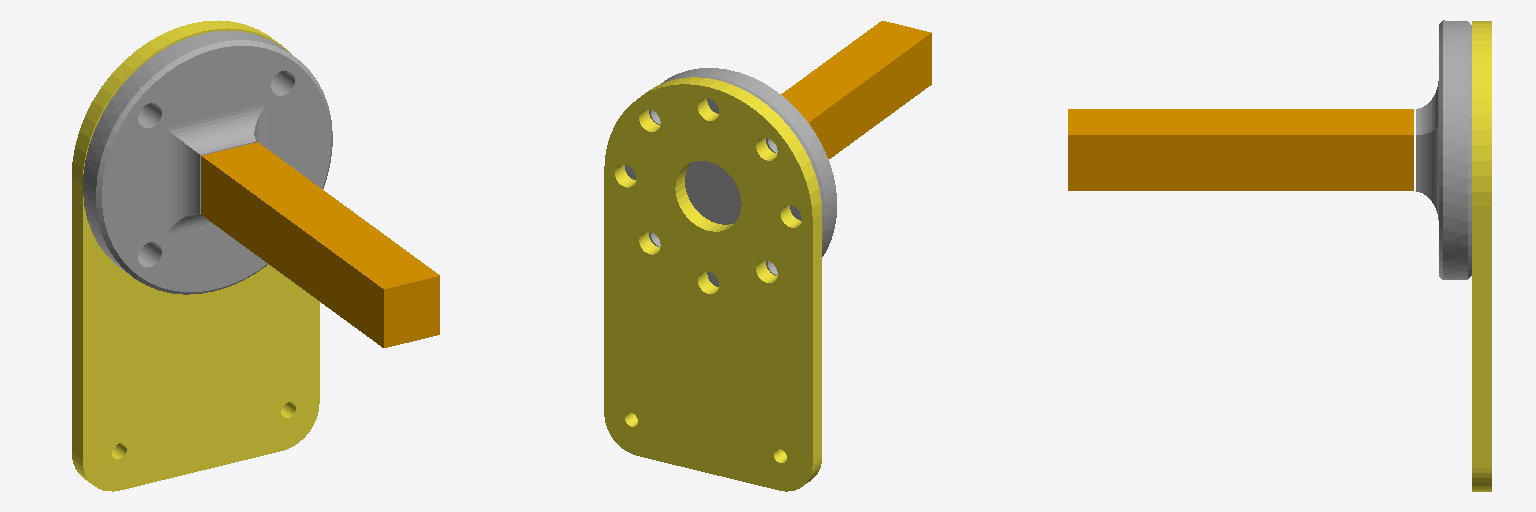
URDF robot description (ur5e_rs_finger):
<?xml version="1.0" ?>
<!-- =================================================================================== -->
<!-- |    This document was autogenerated by xacro from ur5e_rs_fingerlong.xacro       | -->
<!-- |    EDITING THIS FILE BY HAND IS NOT RECOMMENDED                                 | -->
<!-- =================================================================================== -->
<robot name="ur5e_rs_finger">
  <gazebo>
    <plugin filename="libgazebo_ros_control.so" name="ros_control">
      <!--robotNamespace>/</robotNamespace-->
      <!--robotSimType>gazebo_ros_control/DefaultRobotHWSim</robotSimType-->
    </plugin>
    <!--
    <plugin name="gazebo_ros_power_monitor_controller" filename="libgazebo_ros_power_monitor.so">
      <alwaysOn>true</alwaysOn>
      <updateRate>1.0</updateRate>
      <timeout>5</timeout>
      <powerStateTopic>power_state</powerStateTopic>
      <powerStateRate>10.0</powerStateRate>
      <fullChargeCapacity>87.78</fullChargeCapacity>     
      <dischargeRate>-474</dischargeRate>
      <chargeRate>525</chargeRate>
      <dischargeVoltage>15.52</dischargeVoltage>
      <chargeVoltage>16.41</chargeVoltage>
    </plugin>
-->
  </gazebo>
  <!-- Create the link of the hemisphere -->
  <!--property name="shoulder_height" value="0.089159" /-->
  <!--property name="shoulder_offset" value="0.13585" /-->
  <!-- shoulder_offset - elbow_offset + wrist_1_length = 0.10915 -->
  <!--property name="upper_arm_length" value="0.42500" /-->
  <!--property name="elbow_offset" value="0.1197" /-->
  <!-- CAD measured -->
  <!--property name="forearm_length" value="0.39225" /-->
  <!--property name="wrist_1_length" value="0.093" /-->
  <!-- CAD measured -->
  <!--property name="wrist_2_length" value="0.09465" /-->
  <!-- In CAD this distance is 0.930, but in the spec it is 0.09465 -->
  <!--property name="wrist_3_length" value="0.0823" /-->
  <!-- manually measured -->
  <link name="ur5_base_link">
    <visual>
      <geometry>
        <mesh filename="./ur5e/meshes/visual/base.dae"/>
      </geometry>
      <material name="LightGrey">
        <color rgba="0.7 0.7 0.7 1.0"/>
      </material>
    </visual>
    <collision>
      <geometry>
        <mesh filename="./ur5e/meshes/collision/base.stl"/>
      </geometry>
    </collision>
    <inertial>
      <mass value="4.0"/>
      <origin rpy="0 0 0" xyz="0.0 0.0 0.0"/>
      <inertia ixx="0.00443333156" ixy="0.0" ixz="0.0" iyy="0.00443333156" iyz="0.0" izz="0.0072"/>
    </inertial>
  </link>
  <joint name="ur5_shoulder_pan_joint" type="revolute">
    <parent link="ur5_base_link"/>
    <child link="ur5_shoulder_link"/>
    <origin rpy="0.0 0.0 3.141592653589793" xyz="0.0 0.0 0.163"/>
    <axis xyz="0 0 1"/>
    <limit effort="150.0" lower="-6.283185307179586" upper="6.283185307179586" velocity="3.14"/>
    <dynamics damping="0.0" friction="0.0"/>
  </joint>
  <link name="ur5_shoulder_link">
    <visual>
      <geometry>
        <mesh filename="./ur5e/meshes/visual/shoulder.dae"/>
      </geometry>
      <material name="LightGrey">
        <color rgba="0.7 0.7 0.7 1.0"/>
      </material>
    </visual>
    <collision>
      <geometry>
        <mesh filename="./ur5e/meshes/collision/shoulder.stl"/>
      </geometry>
    </collision>
    <inertial>
      <mass value="3.7"/>
      <origin rpy="0 0 0" xyz="0.0 0.0 0.0"/>
      <inertia ixx="0.010267495893" ixy="0.0" ixz="0.0" iyy="0.010267495893" iyz="0.0" izz="0.00666"/>
    </inertial>
  </link>
  <joint name="ur5_shoulder_lift_joint" type="revolute">
    <parent link="ur5_shoulder_link"/>
    <child link="ur5_upper_arm_link"/>
    <origin rpy="0.0 1.5707963267948966 0.0" xyz="0.0 0.138 0.0"/>
    <axis xyz="0 1 0"/>
    <limit effort="150.0" lower="-6.283185307179586" upper="6.283185307179586" velocity="3.14"/>
    <dynamics damping="0.0" friction="0.0"/>
  </joint>
  <link name="ur5_upper_arm_link">
    <visual>
      <geometry>
        <mesh filename="./ur5e/meshes/visual/upperarm.dae"/>
      </geometry>
      <material name="LightGrey">
        <color rgba="0.7 0.7 0.7 1.0"/>
      </material>
    </visual>
    <collision>
      <geometry>
        <mesh filename="./ur5e/meshes/collision/upperarm.stl"/>
      </geometry>
    </collision>
    <inertial>
      <mass value="8.393"/>
      <origin rpy="0 0 0" xyz="0.0 0.0 0.2125"/>
      <inertia ixx="0.1338857818623325" ixy="0.0" ixz="0.0" iyy="0.1338857818623325" iyz="0.0" izz="0.0151074"/>
    </inertial>
  </link>
  <joint name="ur5_elbow_joint" type="revolute">
    <parent link="ur5_upper_arm_link"/>
    <child link="ur5_forearm_link"/>
    <origin rpy="0.0 0.0 0.0" xyz="0.0 -0.131 0.425"/>
    <axis xyz="0 1 0"/>
    <limit effort="150.0" lower="-3.141592653589793" upper="3.141592653589793" velocity="3.14"/>
    <dynamics damping="0.0" friction="0.0"/>
  </joint>
  <link name="ur5_forearm_link">
    <visual>
      <geometry>
        <mesh filename="./ur5e/meshes/visual/forearm.dae"/>
      </geometry>
      <material name="LightGrey">
        <color rgba="0.7 0.7 0.7 1.0"/>
      </material>
    </visual>
    <collision>
      <geometry>
        <mesh filename="./ur5e/meshes/collision/forearm.stl"/>
      </geometry>
    </collision>
    <inertial>
      <mass value="2.275"/>
      <origin rpy="0 0 0" xyz="0.0 0.0 0.196"/>
      <inertia ixx="0.031179620861480004" ixy="0.0" ixz="0.0" iyy="0.031179620861480004" iyz="0.0" izz="0.004095"/>
    </inertial>
  </link>
  <joint name="ur5_wrist_1_joint" type="revolute">
    <parent link="ur5_forearm_link"/>
    <child link="ur5_wrist_1_link"/>
    <origin rpy="0.0 1.5707963267948966 0.0" xyz="0.0 0.0 0.392"/>
    <axis xyz="0 1 0"/>
    <limit effort="28.0" lower="-6.283185307179586" upper="6.283185307179586" velocity="6.28"/>
    <dynamics damping="0.0" friction="0.0"/>
  </joint>
  <link name="ur5_wrist_1_link">
    <visual>
      <geometry>
        <mesh filename="./ur5e/meshes/visual/wrist1.dae"/>
      </geometry>
      <material name="LightGrey">
        <color rgba="0.7 0.7 0.7 1.0"/>
      </material>
    </visual>
    <collision>
      <geometry>
        <mesh filename="./ur5e/meshes/collision/wrist1.stl"/>
      </geometry>
    </collision>
    <inertial>
      <mass value="1.219"/>
      <origin rpy="0 0 0" xyz="0.0 0.127 0.0"/>
      <inertia ixx="0.0025598989760400002" ixy="0.0" ixz="0.0" iyy="0.0025598989760400002" iyz="0.0" izz="0.0021942"/>
    </inertial>
  </link>
  <joint name="ur5_wrist_2_joint" type="revolute">
    <parent link="ur5_wrist_1_link"/>
    <child link="ur5_wrist_2_link"/>
    <origin rpy="0.0 0.0 0.0" xyz="0.0 0.127 0.0"/>
    <axis xyz="0 0 1"/>
    <limit effort="28.0" lower="-6.283185307179586" upper="6.283185307179586" velocity="6.28"/>
    <dynamics damping="0.0" friction="0.0"/>
  </joint>
  <link name="ur5_wrist_2_link">
    <visual>
      <geometry>
        <mesh filename="./ur5e/meshes/visual/wrist2.dae"/>
      </geometry>
      <material name="LightGrey">
        <color rgba="0.7 0.7 0.7 1.0"/>
      </material>
    </visual>
    <collision>
      <geometry>
        <mesh filename="./ur5e/meshes/collision/wrist2.stl"/>
      </geometry>
    </collision>
    <inertial>
      <mass value="1.219"/>
      <origin rpy="0 0 0" xyz="0.0 0.0 0.1"/>
      <inertia ixx="0.0025598989760400002" ixy="0.0" ixz="0.0" iyy="0.0025598989760400002" iyz="0.0" izz="0.0021942"/>
    </inertial>
  </link>
  <joint name="ur5_wrist_3_joint" type="revolute">
    <parent link="ur5_wrist_2_link"/>
    <child link="ur5_wrist_3_link"/>
    <origin rpy="0.0 0.0 0.0" xyz="0.0 0.0 0.1"/>
    <axis xyz="0 1 0"/>
    <limit effort="28.0" lower="-6.283185307179586" upper="6.283185307179586" velocity="6.28"/>
    <dynamics damping="0.0" friction="0.0"/>
  </joint>
  <link name="ur5_wrist_3_link">
    <visual>
      <geometry>
        <mesh filename="./ur5e/meshes/visual/wrist3.dae"/>
      </geometry>
      <material name="LightGrey">
        <color rgba="0.7 0.7 0.7 1.0"/>
      </material>
    </visual>
    <collision>
      <geometry>
        <mesh filename="./ur5e/meshes/collision/wrist3.stl"/>
      </geometry>
    </collision>
    <inertial>
      <mass value="0.1879"/>
      <origin rpy="1.5707963267948966 0 0" xyz="0.0 0.0771 0.0"/>
      <inertia ixx="9.890410052167731e-05" ixy="0.0" ixz="0.0" iyy="9.890410052167731e-05" iyz="0.0" izz="0.0001321171875"/>
    </inertial>
  </link>
  <joint name="ur5_ee_fixed_joint" type="fixed">
    <parent link="ur5_wrist_3_link"/>
    <child link="ur5_ee_link"/>
    <origin rpy="0.0 0.0 1.5707963267948966" xyz="0.0 0.1 0.0"/>
  </joint>
  <link name="ur5_ee_link">
    <collision>
      <geometry>
        <box size="0.01 0.01 0.01"/>
      </geometry>
      <origin rpy="0 0 0" xyz="-0.01 0 0"/>
    </collision>
    <inertial>
      <mass value="1"/>
      <origin rpy="0 0 0" xyz="0.0 0.0 0.0"/>
      <inertia ixx="1" ixy="0.0" ixz="0.0" iyy="1" iyz="0.0" izz="1"/>
    </inertial>
  </link>
  <transmission name="ur5_shoulder_pan_trans">
    <type>transmission_interface/SimpleTransmission</type>
    <joint name="ur5_shoulder_pan_joint">
      <hardwareInterface>hardware_interface/PositionJointInterface</hardwareInterface>
    </joint>
    <actuator name="ur5_shoulder_pan_motor">
      <mechanicalReduction>1</mechanicalReduction>
    </actuator>
  </transmission>
  <transmission name="ur5_shoulder_lift_trans">
    <type>transmission_interface/SimpleTransmission</type>
    <joint name="ur5_shoulder_lift_joint">
      <hardwareInterface>hardware_interface/PositionJointInterface</hardwareInterface>
    </joint>
    <actuator name="ur5_shoulder_lift_motor">
      <mechanicalReduction>1</mechanicalReduction>
    </actuator>
  </transmission>
  <transmission name="ur5_elbow_trans">
    <type>transmission_interface/SimpleTransmission</type>
    <joint name="ur5_elbow_joint">
      <hardwareInterface>hardware_interface/PositionJointInterface</hardwareInterface>
    </joint>
    <actuator name="ur5_elbow_motor">
      <mechanicalReduction>1</mechanicalReduction>
    </actuator>
  </transmission>
  <transmission name="ur5_wrist_1_trans">
    <type>transmission_interface/SimpleTransmission</type>
    <joint name="ur5_wrist_1_joint">
      <hardwareInterface>hardware_interface/PositionJointInterface</hardwareInterface>
    </joint>
    <actuator name="ur5_wrist_1_motor">
      <mechanicalReduction>1</mechanicalReduction>
    </actuator>
  </transmission>
  <transmission name="ur5_wrist_2_trans">
    <type>transmission_interface/SimpleTransmission</type>
    <joint name="ur5_wrist_2_joint">
      <hardwareInterface>hardware_interface/PositionJointInterface</hardwareInterface>
    </joint>
    <actuator name="ur5_wrist_2_motor">
      <mechanicalReduction>1</mechanicalReduction>
    </actuator>
  </transmission>
  <transmission name="ur5_wrist_3_trans">
    <type>transmission_interface/SimpleTransmission</type>
    <joint name="ur5_wrist_3_joint">
      <hardwareInterface>hardware_interface/PositionJointInterface</hardwareInterface>
    </joint>
    <actuator name="ur5_wrist_3_motor">
      <mechanicalReduction>1</mechanicalReduction>
    </actuator>
  </transmission>
  <gazebo reference="ur5_shoulder_link">
    <selfCollide>true</selfCollide>
  </gazebo>
  <gazebo reference="ur5_upper_arm_link">
    <selfCollide>true</selfCollide>
  </gazebo>
  <gazebo reference="ur5_forearm_link">
    <selfCollide>true</selfCollide>
  </gazebo>
  <gazebo reference="ur5_wrist_1_link">
    <selfCollide>true</selfCollide>
  </gazebo>
  <gazebo reference="ur5_wrist_3_link">
    <selfCollide>true</selfCollide>
  </gazebo>
  <gazebo reference="ur5_wrist_2_link">
    <selfCollide>true</selfCollide>
  </gazebo>
  <gazebo reference="ur5_ee_link">
    <selfCollide>true</selfCollide>
  </gazebo>
  <!-- ROS base_link to UR 'Base' Coordinates transform -->
  <link name="ur5_base">
    <inertial>
      <mass value="1"/>
      <origin rpy="0 0 0" xyz="0.0 0.0 0.0"/>
      <inertia ixx="1" ixy="0.0" ixz="0.0" iyy="1" iyz="0.0" izz="1"/>
    </inertial>
  </link>
  <joint name="ur5_base_link-base_fixed_joint" type="fixed">
    <!-- NOTE: this rotation is only needed as long as base_link itself is
                 not corrected wrt the real robot (ie: rotated over 180
                 degrees)
      -->
    <origin rpy="0 0 -3.141592653589793" xyz="0 0 0"/>
    <parent link="ur5_base_link"/>
    <child link="ur5_base"/>
  </joint>
  <!-- Frame coincident with all-zeros TCP on UR controller -->
  <link name="ur5_tool0">
    <inertial>
      <mass value="1"/>
      <origin rpy="0 0 0" xyz="0.0 0.0 0.0"/>
      <inertia ixx="1" ixy="0.0" ixz="0.0" iyy="1" iyz="0.0" izz="1"/>
    </inertial>
  </link>
  <joint name="ur5_wrist_3_link-tool0_fixed_joint" type="fixed">
    <origin rpy="-1.5707963267948966 0 0" xyz="0 0.1 0"/>
    <parent link="ur5_wrist_3_link"/>
    <child link="ur5_tool0"/>
  </joint>
  <link name="world"/>
  <joint name="world_joint" type="fixed">
    <parent link="world"/>
    <child link="ur5_base_link"/>
    <origin rpy="0.0 0.0 0.0" xyz="0.0 0.0 0.0"/>
  </joint>
  <material name="aluminum">
    <color rgba="0.5 0.5 0.5 1"/>
  </material>
  <material name="plastic">
    <color rgba="0.1 0.1 0.1 1"/>
  </material>
  <!-- Create the link of the hemisphere -->
  <link name="adapter_base">
    <visual>
      <geometry>
        <mesh filename="./realsense_d415/meshes/adapter.dae"/>
      </geometry>
    </visual>
    <inertial>
      <mass value="1"/>
      <origin rpy="0 0 0" xyz="0.0 0.0 0.0"/>
      <inertia ixx="1" ixy="0.0" ixz="0.0" iyy="1" iyz="0.0" izz="1"/>
    </inertial>
  </link>
  <joint name="adapter_base_to_mount" type="fixed">
    <parent link="adapter_mount"/>
    <child link="adapter_base"/>
    <origin rpy="0 0 0" xyz="-0.031 -0.08 0.0"/>
  </joint>
  <link name="adapter_mount">
    <inertial>
      <mass value="1"/>
      <origin rpy="0 0 0" xyz="0.0 0.0 0.0"/>
      <inertia ixx="1" ixy="0.0" ixz="0.0" iyy="1" iyz="0.0" izz="1"/>
    </inertial>
  </link>
  <joint name="adapter_base_to_mount2" type="fixed">
    <parent link="adapter_mount"/>
    <child link="adapter_mount2"/>
    <origin rpy="0 0 0" xyz="0.0 0.0 0.005"/>
  </joint>
  <link name="adapter_mount2">
    <inertial>
      <mass value="1"/>
      <origin rpy="0 0 0" xyz="0.0 0.0 0.0"/>
      <inertia ixx="1" ixy="0.0" ixz="0.0" iyy="1" iyz="0.0" izz="1"/>
    </inertial>
  </link>
  <joint name="adapter_base_to_mount3" type="fixed">
    <parent link="adapter_mount2"/>
    <child link="adapter_mount3"/>
    <origin rpy="0 0 0" xyz="0.024 -0.07 0.0"/>
  </joint>
  <link name="adapter_mount3">
    <inertial>
      <mass value="1"/>
      <origin rpy="0 0 0" xyz="0.0 0.0 0.0"/>
      <inertia ixx="1" ixy="0.0" ixz="0.0" iyy="1" iyz="0.0" izz="1"/>
    </inertial>
  </link>

  <!-- Create the link of the finger -->
  <link name="finger_base">
    <visual>
      <geometry>
        <mesh filename="./finger/finger_long_base.dae"/>
      </geometry>
    </visual>
    <collision>
      <geometry>
        <mesh filename="./finger/finger_long_base.dae"/>
      </geometry>
    </collision>
    <inertial>
      <mass value="1"/>
      <origin rpy="0 0 0" xyz="0.0 0.0 0.0"/>
      <inertia ixx="1" ixy="0.0" ixz="0.0" iyy="1" iyz="0.0" izz="1"/>
    </inertial>
  </link>

  <joint name="finger_base_to_finger_body" type="fixed">
    <parent link="finger_base"/>
    <child link="finger_body"/>
    <origin rpy="0 0 0" xyz="0.0 0.0 0.0"/>
  </joint>

  <link name="finger_body">
    <visual>
      <geometry>
        <mesh filename="./finger/finger_long_body.dae"/>
      </geometry>
    </visual>
    <collision>
      <geometry>
        <mesh filename="./finger/finger_long_body.dae"/>
      </geometry>
    </collision>
    <inertial>
      <mass value="1"/>
      <origin rpy="0 0 0" xyz="0.0 0.0 0.0"/>
      <inertia ixx="1" ixy="0.0" ixz="0.0" iyy="1" iyz="0.0" izz="1"/>
    </inertial>
  </link>

  <joint name="finger_base_to_finger_tip" type="fixed">
    <parent link="finger_base"/>
    <child link="finger_tip"/>
    <origin rpy="0 0 0" xyz="0.0 0.0 0.098"/>
  </joint>

  <link name="finger_tip">
    <inertial>
      <mass value="1"/>
      <origin rpy="0 0 0" xyz="0.0 0.0 0.0"/>
      <inertia ixx="1" ixy="0.0" ixz="0.0" iyy="1" iyz="0.0" izz="1"/>
    </inertial>
  </link>

  <joint name="adapter_to_ur5" type="fixed">
    <parent link="ur5_tool0"/>
    <child link="adapter_mount"/>
    <origin rpy="0 0 0" xyz="0 0 0"/>
  </joint>
  <joint name="adapter_to_camera" type="fixed">
    <parent link="adapter_mount3"/>
    <child link="adapter_to_camera"/>
    <origin rpy="0 -1.5707963267948966 1.5707963267948966" xyz="-0.023 0.012 0.01"/>
  </joint>
  <link name="adapter_to_camera">
    <inertial>
      <mass value="1"/>
      <origin rpy="0 0 0" xyz="0.0 0.0 0.0"/>
      <inertia ixx="1" ixy="0.0" ixz="0.0" iyy="1" iyz="0.0" izz="1"/>
    </inertial>
  </link>
  <joint name="adapter_to_finger" type="fixed">
    <parent link="adapter_mount2"/>
    <child link="finger_base"/>
    <origin rpy="0 0 0 " xyz="0 0 0.0"/>
  </joint>
  <!-- camera body, with origin at bottom screw mount -->
  <joint name="camera_joint" type="fixed">
    <origin rpy="0 0 0" xyz="0 0 0"/>
    <parent link="adapter_to_camera"/>
    <child link="camera_bottom_screw_frame"/>
  </joint>
  <link name="camera_bottom_screw_frame">
    <inertial>
      <mass value="1"/>
      <origin rpy="0 0 0" xyz="0.0 0.0 0.0"/>
      <inertia ixx="1" ixy="0.0" ixz="0.0" iyy="1" iyz="0.0" izz="1"/>
    </inertial>
  </link>
  <joint name="camera_link_joint" type="fixed">
    <origin rpy="0 0 0" xyz="0 0.02 0.0115"/>
    <parent link="camera_bottom_screw_frame"/>
    <child link="camera_link"/>
  </joint>
  <link name="camera_link">
    <visual>
      <origin rpy="1.5707963267948966 0 1.5707963267948966" xyz="0.00987 -0.02 0"/>
      <geometry>
        <!-- <box size="${d415_cam_width} ${d415_cam_height} ${d415_cam_depth}"/> -->
        <mesh filename="./realsense_d415/meshes/d415.stl"/>
      </geometry>
      <material name="aluminum"/>
    </visual>
    <collision>
      <origin rpy="0 0 0" xyz="0 -0.02 0"/>
      <geometry>
        <box size="0.02005 0.099 0.023"/>
      </geometry>
    </collision>
    <inertial>
      <!-- The following are not reliable values, and should not be used for modeling -->
      <mass value="0.564"/>
      <origin xyz="0 0 0"/>
      <inertia ixx="0.003881243" ixy="0.0" ixz="0.0" iyy="0.000498940" iyz="0.0" izz="0.003879257"/>
    </inertial>
  </link>
  <!-- camera depth joints and links -->
  <joint name="camera_depth_joint" type="fixed">
    <origin rpy="0 0 0" xyz="0 0 0"/>
    <parent link="camera_link"/>
    <child link="camera_depth_frame"/>
  </joint>
  <link name="camera_depth_frame">
    <inertial>
      <mass value="1"/>
      <origin rpy="0 0 0" xyz="0.0 0.0 0.0"/>
      <inertia ixx="1" ixy="0.0" ixz="0.0" iyy="1" iyz="0.0" izz="1"/>
    </inertial>
  </link>
  <joint name="camera_depth_optical_joint" type="fixed">
    <origin rpy="-1.5707963267948966 0 -1.5707963267948966" xyz="0 0 0"/>
    <parent link="camera_depth_frame"/>
    <child link="camera_depth_optical_frame"/>
  </joint>
  <link name="camera_depth_optical_frame">
    <inertial>
      <mass value="1"/>
      <origin rpy="0 0 0" xyz="0.0 0.0 0.0"/>
      <inertia ixx="1" ixy="0.0" ixz="0.0" iyy="1" iyz="0.0" izz="1"/>
    </inertial>
  </link>
  <!-- camera left IR joints and links -->
  <joint name="camera_infra1_joint" type="fixed">
    <origin rpy="0 0 0" xyz="0 0.0 0"/>
    <parent link="camera_link"/>
    <child link="camera_infra1_frame"/>
  </joint>
  <link name="camera_infra1_frame">
    <inertial>
      <mass value="1"/>
      <origin rpy="0 0 0" xyz="0.0 0.0 0.0"/>
      <inertia ixx="1" ixy="0.0" ixz="0.0" iyy="1" iyz="0.0" izz="1"/>
    </inertial>
  </link>
  <joint name="camera_infra1_optical_joint" type="fixed">
    <origin rpy="-1.5707963267948966 0 -1.5707963267948966" xyz="0 0 0"/>
    <parent link="camera_infra1_frame"/>
    <child link="camera_infra1_optical_frame"/>
  </joint>
  <link name="camera_infra1_optical_frame">
    <inertial>
      <mass value="1"/>
      <origin rpy="0 0 0" xyz="0.0 0.0 0.0"/>
      <inertia ixx="1" ixy="0.0" ixz="0.0" iyy="1" iyz="0.0" izz="1"/>
    </inertial>
  </link>
  <!-- camera right IR joints and links -->
  <joint name="camera_infra2_joint" type="fixed">
    <origin rpy="0 0 0" xyz="0 -0.055 0"/>
    <parent link="camera_link"/>
    <child link="camera_infra2_frame"/>
  </joint>
  <link name="camera_infra2_frame">
    <inertial>
      <mass value="1"/>
      <origin rpy="0 0 0" xyz="0.0 0.0 0.0"/>
      <inertia ixx="1" ixy="0.0" ixz="0.0" iyy="1" iyz="0.0" izz="1"/>
    </inertial>
  </link>
  <joint name="camera_infra2_optical_joint" type="fixed">
    <origin rpy="-1.5707963267948966 0 -1.5707963267948966" xyz="0 0 0"/>
    <parent link="camera_infra2_frame"/>
    <child link="camera_infra2_optical_frame"/>
  </joint>
  <link name="camera_infra2_optical_frame">
    <inertial>
      <mass value="1"/>
      <origin rpy="0 0 0" xyz="0.0 0.0 0.0"/>
      <inertia ixx="1" ixy="0.0" ixz="0.0" iyy="1" iyz="0.0" izz="1"/>
    </inertial>
  </link>
  <!-- camera color joints and links -->
  <joint name="camera_color_joint" type="fixed">
    <origin rpy="0 0 0" xyz="0 0.015 0"/>
    <parent link="camera_link"/>
    <child link="camera_color_frame"/>
  </joint>
  <link name="camera_color_frame">
    <inertial>
      <mass value="1"/>
      <origin rpy="0 0 0" xyz="0.0 0.0 0.0"/>
      <inertia ixx="1" ixy="0.0" ixz="0.0" iyy="1" iyz="0.0" izz="1"/>
    </inertial>
  </link>
  <joint name="camera_color_optical_joint" type="fixed">
    <origin rpy="-1.5707963267948966 0 -1.5707963267948966" xyz="0 0 0"/>
    <parent link="camera_color_frame"/>
    <child link="camera_color_optical_frame"/>
  </joint>
  <link name="camera_color_optical_frame">
    <inertial>
      <mass value="1"/>
      <origin rpy="0 0 0" xyz="0.0 0.0 0.0"/>
      <inertia ixx="1" ixy="0.0" ixz="0.0" iyy="1" iyz="0.0" izz="1"/>
    </inertial>
  </link>
</robot>

--- Facts derived from the render (not from the file) ---
Views: 3 orthographic renders of the robot side by side, from view 1: azimuth 30°, elevation 25°; view 2: azimuth 150°, elevation 25°; view 3: azimuth 270°, elevation 25°.
Robot: ur5e_rs_finger — 29 links, 28 joints (6 revolute, 22 fixed); root link world; default pose: all joints at 0.
Visible links, largest first — view 1: adapter_base, finger_base, finger_body; view 2: adapter_base, finger_body, finger_base; view 3: finger_body, finger_base, adapter_base.
Boxes of the visible links, <box> form: adapter_base: <box>72,20,319,491</box>; finger_base: <box>83,31,332,294</box>; finger_body: <box>201,142,439,347</box>; adapter_base: <box>604,77,821,491</box>; finger_body: <box>781,21,931,158</box>; finger_base: <box>625,68,836,286</box>; finger_body: <box>1068,109,1413,190</box>; finger_base: <box>1416,20,1471,279</box>; adapter_base: <box>1472,21,1491,491</box>.
Bounding box of the posed robot: 0.0635 × 0.103 × 0.1115 m (x, y, z).
Meshes: 11 distinct files referenced, 3 mesh visuals loaded (3 Collada DAE); not drawn: 8 (reference not matched to a file when rendering).